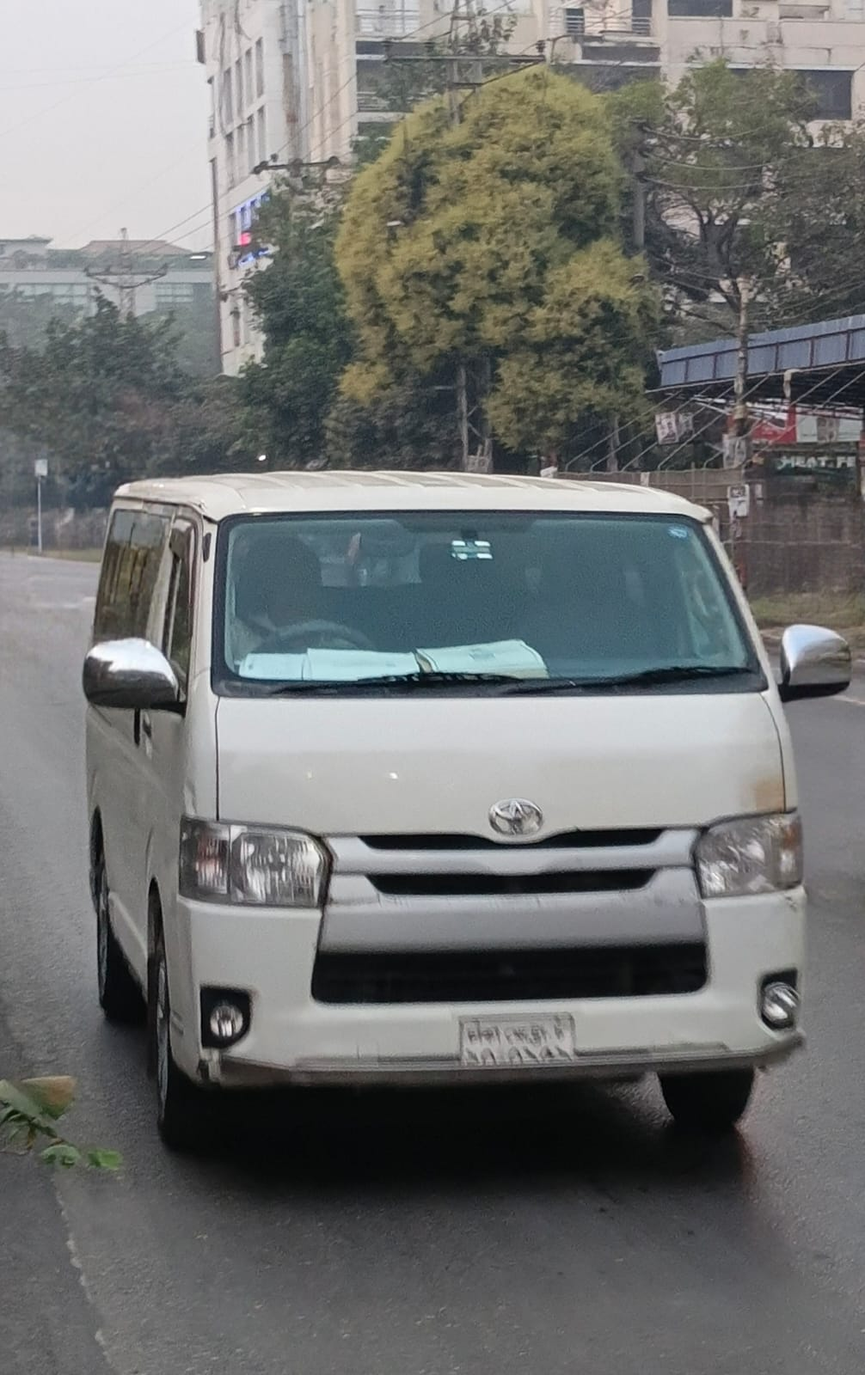private car: (77, 440, 850, 1154)
